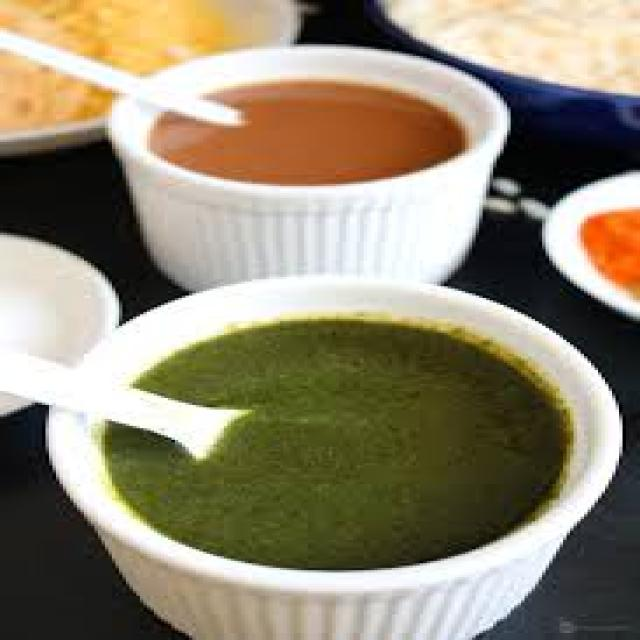GREEN CHUTNEY: (105, 319, 570, 568)
RED CHUTNEY: (147, 81, 465, 184)
